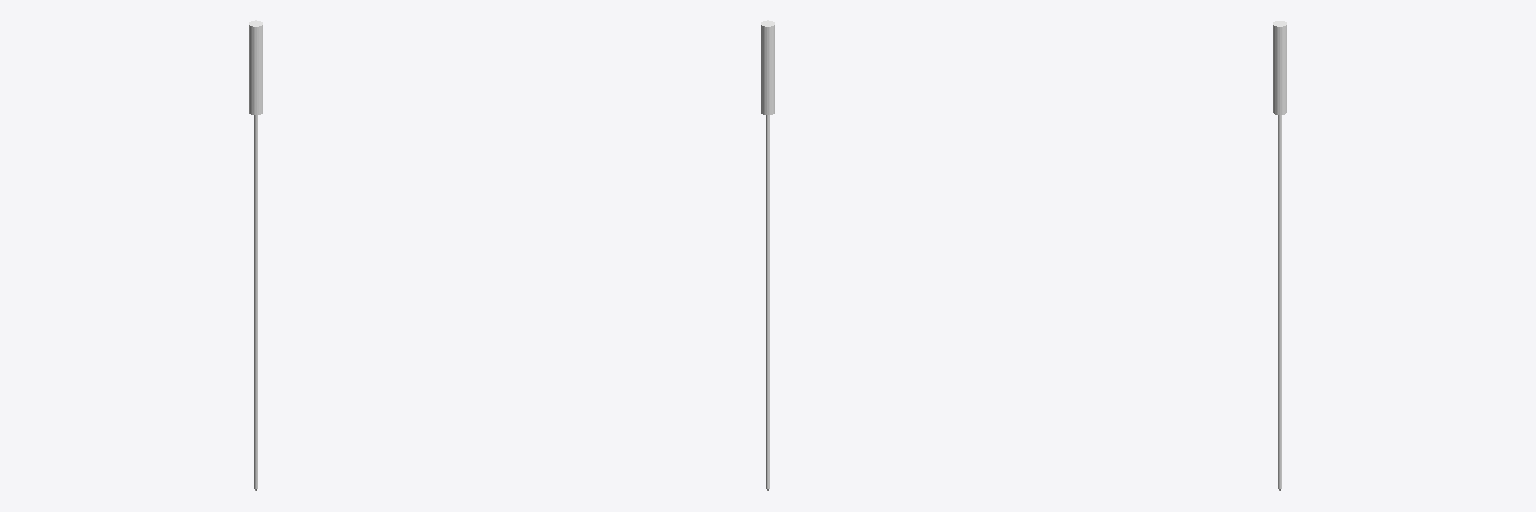
robot.urdf — cube:
<?xml version="1.0" ?>
<robot name="cube">
  <link name="baseLink">
    <contact>
      <lateral_friction value="1.0"/>
      <rolling_friction value="0.0"/>
      <contact_cfm value="0.0"/>
      <contact_erp value="1.0"/>
    </contact>
    <inertial>
      <origin rpy="0 0 0" xyz="0 0 0"/>
       <mass value="1.0"/>
       <inertia ixx="1" ixy="0" ixz="0" iyy="1" iyz="0" izz="1"/>
    </inertial>
    <visual>
      <origin rpy="0 0 0" xyz="0 0 0"/>
      <geometry>
				<mesh filename="needle.stl" scale="0.001 0.001 0.001"/>
      </geometry>
       <material name="white">
        <color rgba="1 1 1 1"/>
      </material>
    </visual>
    <collision concave = 'yes'>
      <geometry>
      <mesh filename="needle.stl" scale="0.001 0.001 0.001"/> 
      </geometry>
    </collision>
  </link>
</robot>

--- Render facts (derived) ---
The picture shows the robot from 3 angles, left to right: view 1: azimuth 30°, elevation 25°; view 2: azimuth 150°, elevation 25°; view 3: azimuth 270°, elevation 25°; orthographic projection.
Robot: cube — 1 links, 0 joints (none); root link baseLink; default pose: all joints at 0.
Links seen in each view (by area): view 1: baseLink; view 2: baseLink; view 3: baseLink.
Link boxes in pixels (x1,y1,x2,y2): baseLink: (249, 20, 262, 490); baseLink: (761, 20, 774, 490); baseLink: (1273, 21, 1286, 490).
Size in the robot's own frame: 0.0053 by 0.0053 by 0.1851 metres.
1 mesh visuals loaded from 1 distinct referenced files (1 binary STL).
